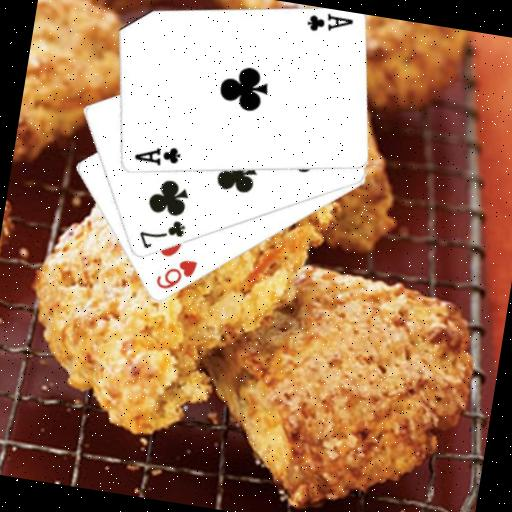6H: (151, 252, 200, 296)
7C: (134, 212, 188, 256)
AC: (301, 6, 355, 39), (130, 138, 183, 171)
